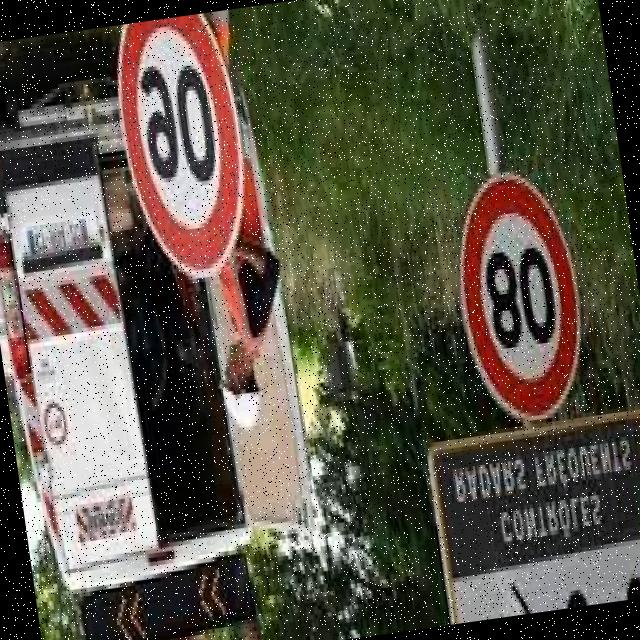speed_limit_80: (438, 160, 604, 430)
